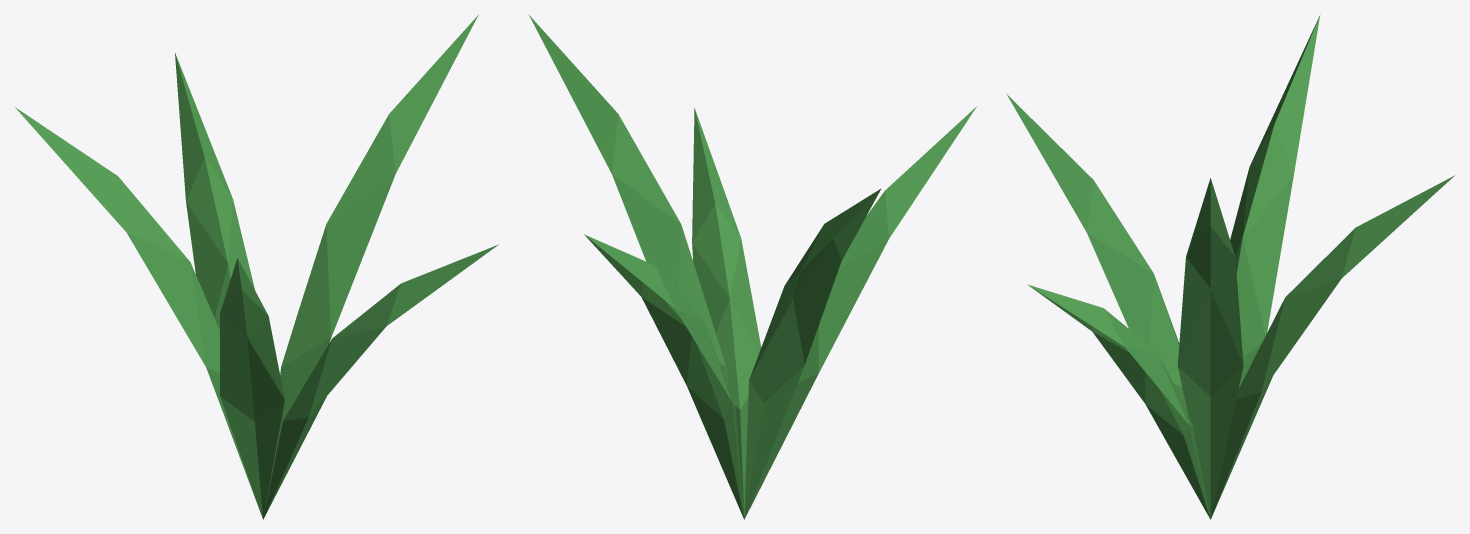
The model's file is Prop_Grass_Clump_3.glb.
3 views of the same model, side by side, from view 1: azimuth 30°, elevation 25°; view 2: azimuth 150°, elevation 25°; view 3: azimuth 270°, elevation 25° (orthographic).
Parts seen in each view (by area): view 1: Prop_Grass_Clump_3_Merged; view 2: Prop_Grass_Clump_3_Merged; view 3: Prop_Grass_Clump_3_Merged.
Boxes of the visible parts, left/top/right/bottom form: Prop_Grass_Clump_3_Merged: left=15, top=14, right=498, bottom=519; Prop_Grass_Clump_3_Merged: left=528, top=14, right=976, bottom=519; Prop_Grass_Clump_3_Merged: left=1006, top=15, right=1454, bottom=519.
Bounding box in the file's own units: 0.6287 × 0.6656 × 0.6077.
